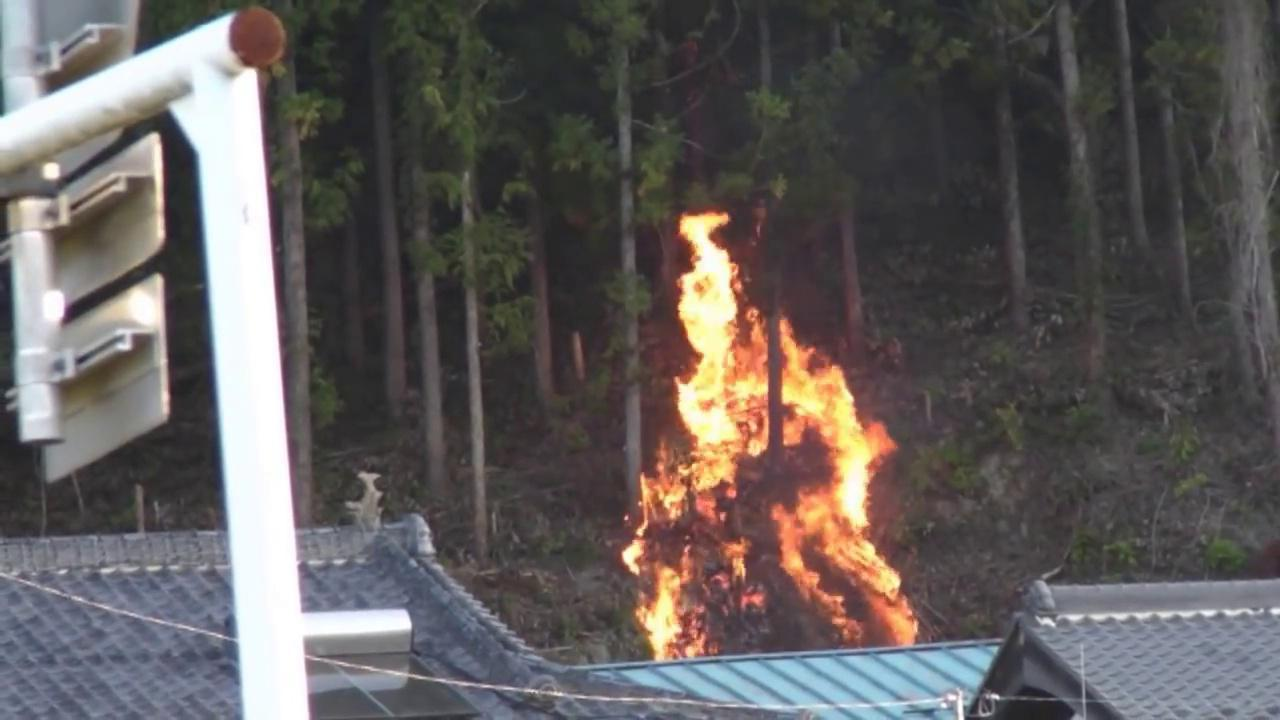Fire: (625, 208, 920, 663)
